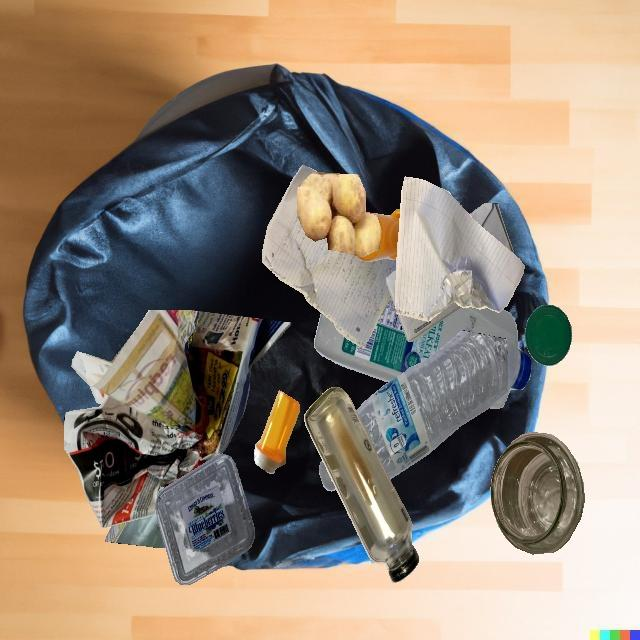biowaste: (297, 172, 382, 257)
glass: (304, 387, 419, 583), (491, 432, 585, 554), (105, 509, 165, 548)
paper: (64, 310, 292, 528), (262, 165, 397, 349), (395, 177, 525, 322), (396, 255, 514, 322)
plastic: (314, 295, 531, 409), (356, 330, 508, 479), (155, 453, 255, 585), (254, 390, 300, 473), (525, 305, 572, 366), (355, 209, 400, 262)
